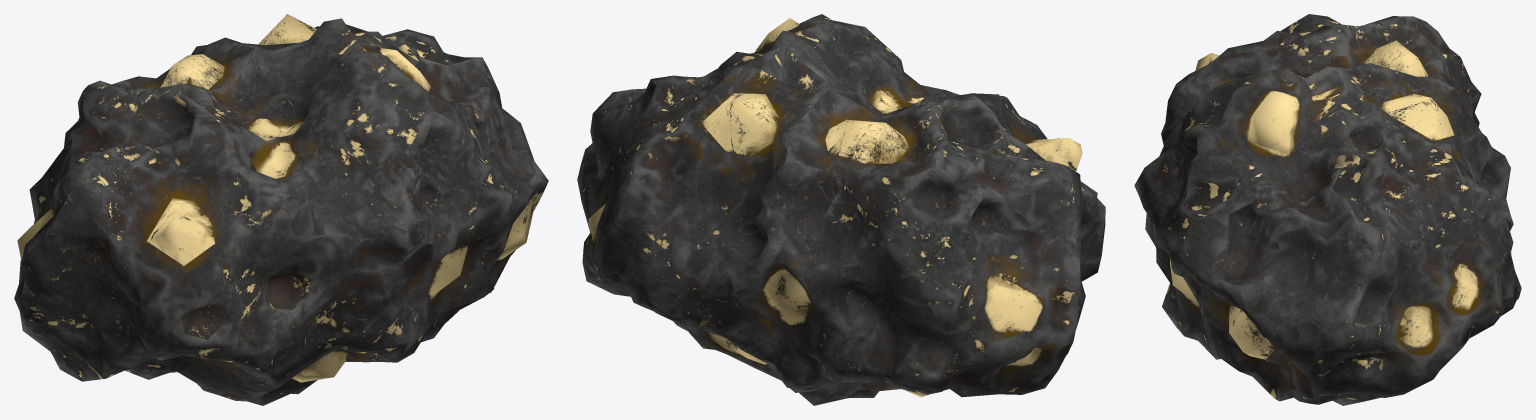
The model's file is Gold.fbx.
3 renders of one model, left to right at view 1: azimuth 30°, elevation 25°; view 2: azimuth 150°, elevation 25°; view 3: azimuth 270°, elevation 25°, orthographic. The views are drawn at different scales.
Parts seen in each view (by area): view 1: Asteroid_1b; view 2: Asteroid_1b; view 3: Asteroid_1b.
Boxes of the visible parts, bbox=[...] form: Asteroid_1b: bbox=[14, 14, 548, 405]; Asteroid_1b: bbox=[577, 14, 1105, 405]; Asteroid_1b: bbox=[1134, 14, 1521, 405].
Size of the model in its own units: 373 by 248 by 254.
